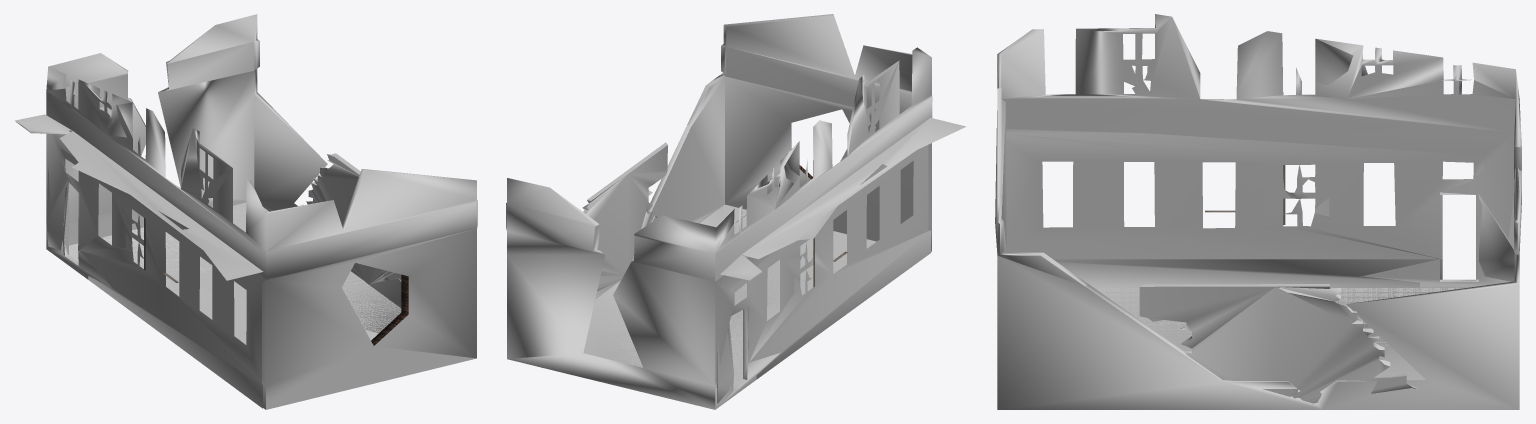
File: greenhouse1_LOD2.fbx
3 views of the same model, side by side, from view 1: azimuth 30°, elevation 25°; view 2: azimuth 150°, elevation 25°; view 3: azimuth 270°, elevation 25° (orthographic). The views are drawn at different scales.
Visible parts, largest first — view 1: greenhouse1_LOD2; view 2: greenhouse1_LOD2; view 3: greenhouse1_LOD2.
Part boxes in pixels (box(x1,y1,x2,y2)): greenhouse1_LOD2: box(15, 14, 477, 409); greenhouse1_LOD2: box(506, 14, 966, 409); greenhouse1_LOD2: box(995, 14, 1521, 409).
Bounding box in the file's own units: 5.92 × 5.21 × 9.09.
